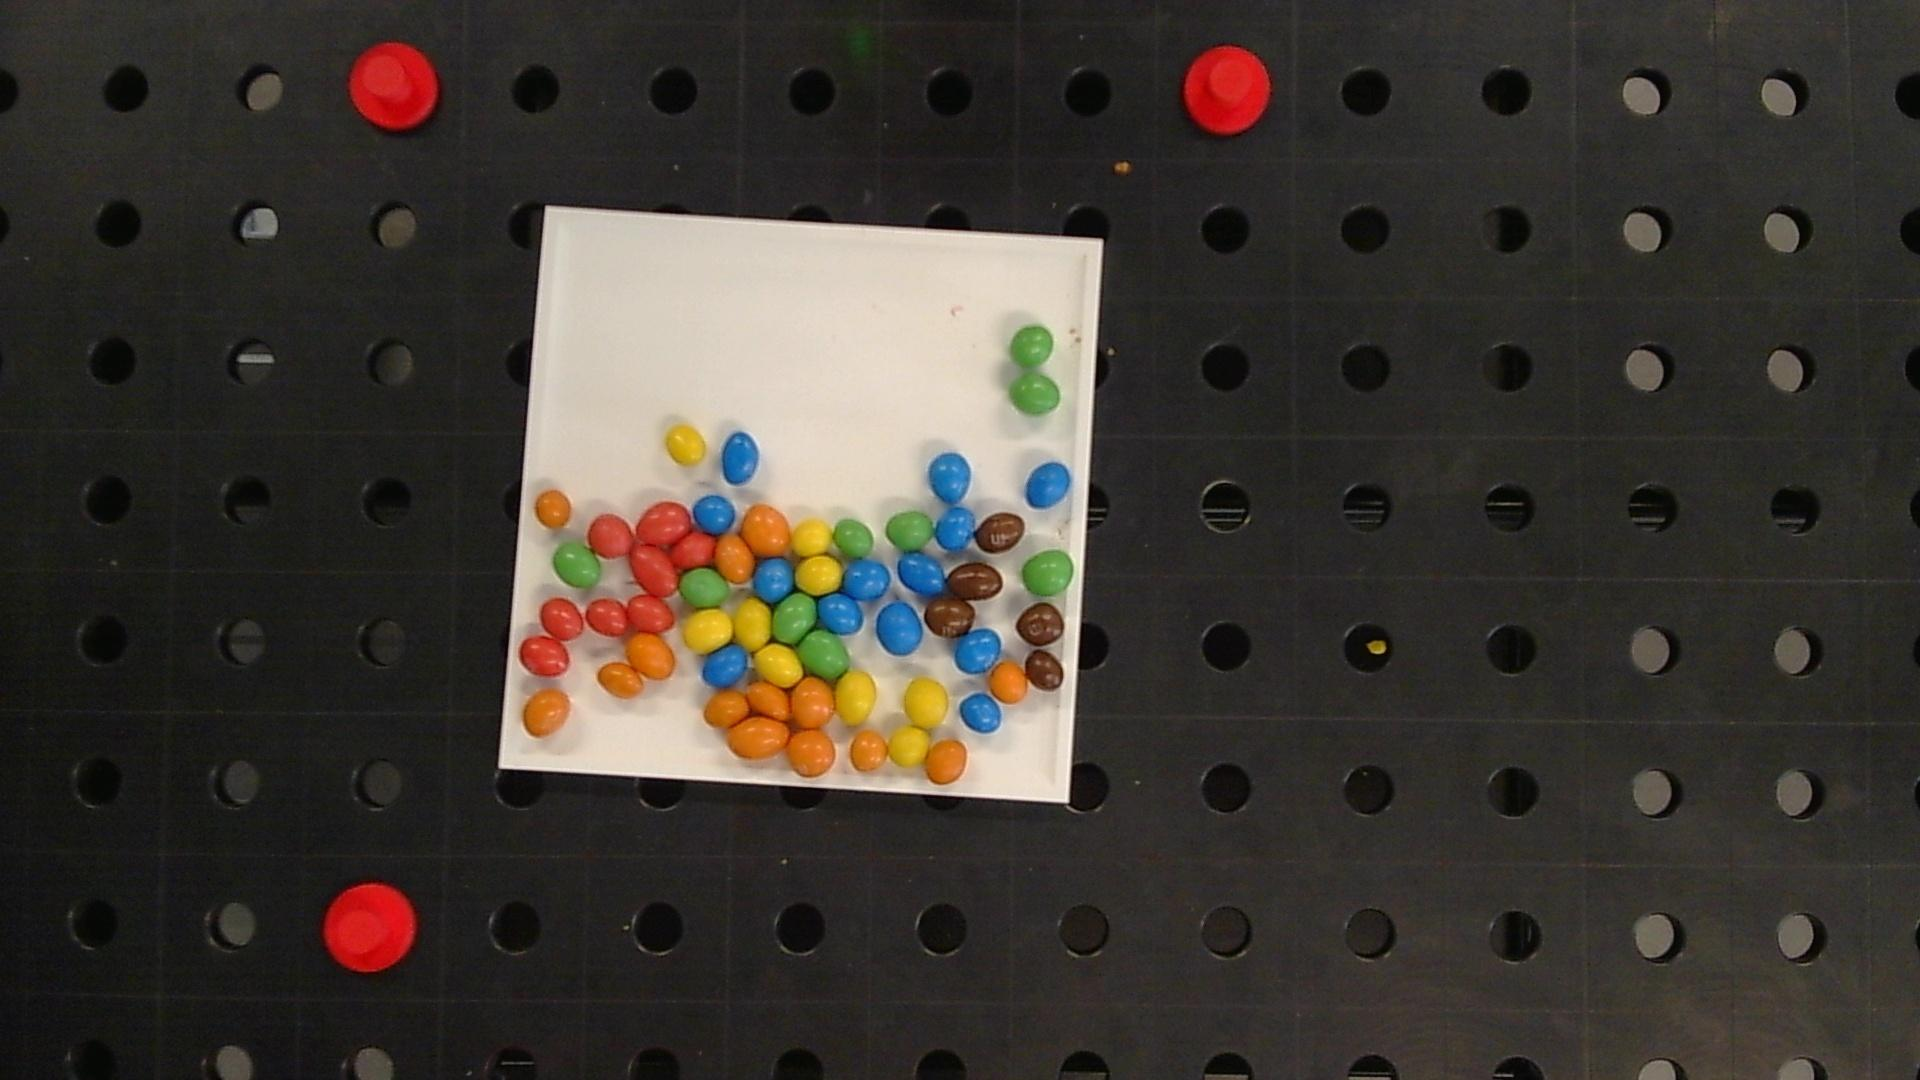blue: (877, 601, 923, 654), (928, 452, 971, 504), (955, 629, 1001, 674), (1026, 463, 1071, 508), (843, 559, 890, 600), (898, 554, 945, 595), (819, 592, 864, 633), (723, 433, 758, 484), (703, 647, 748, 687), (754, 556, 794, 600), (936, 508, 976, 551), (960, 694, 1002, 733), (694, 496, 736, 533)
brown: (1015, 603, 1064, 646), (945, 563, 1004, 599), (926, 597, 975, 638), (976, 513, 1025, 553), (1026, 651, 1064, 690)
green: (799, 632, 849, 678), (1022, 550, 1073, 595), (553, 542, 601, 588), (1010, 372, 1062, 414), (773, 593, 816, 642), (886, 510, 934, 551), (1010, 326, 1054, 368), (680, 568, 728, 607), (833, 518, 874, 558)
orange: (728, 716, 790, 758), (742, 505, 790, 555), (524, 690, 571, 736), (787, 731, 836, 775), (626, 634, 675, 679), (791, 678, 835, 728), (715, 534, 754, 583), (926, 740, 967, 783), (597, 662, 645, 698), (704, 691, 749, 728), (849, 731, 887, 771), (990, 661, 1027, 703), (748, 682, 790, 719), (534, 489, 572, 527)
red: (630, 542, 678, 595), (637, 502, 691, 545), (520, 636, 570, 676), (588, 513, 633, 556), (628, 595, 675, 632), (541, 599, 583, 640), (587, 599, 629, 636), (673, 530, 713, 566)
yellow: (683, 609, 733, 653), (836, 671, 876, 724), (905, 679, 948, 727), (735, 599, 771, 647), (757, 645, 802, 684), (796, 555, 841, 593), (887, 725, 928, 766), (666, 425, 705, 464), (793, 518, 832, 555)
